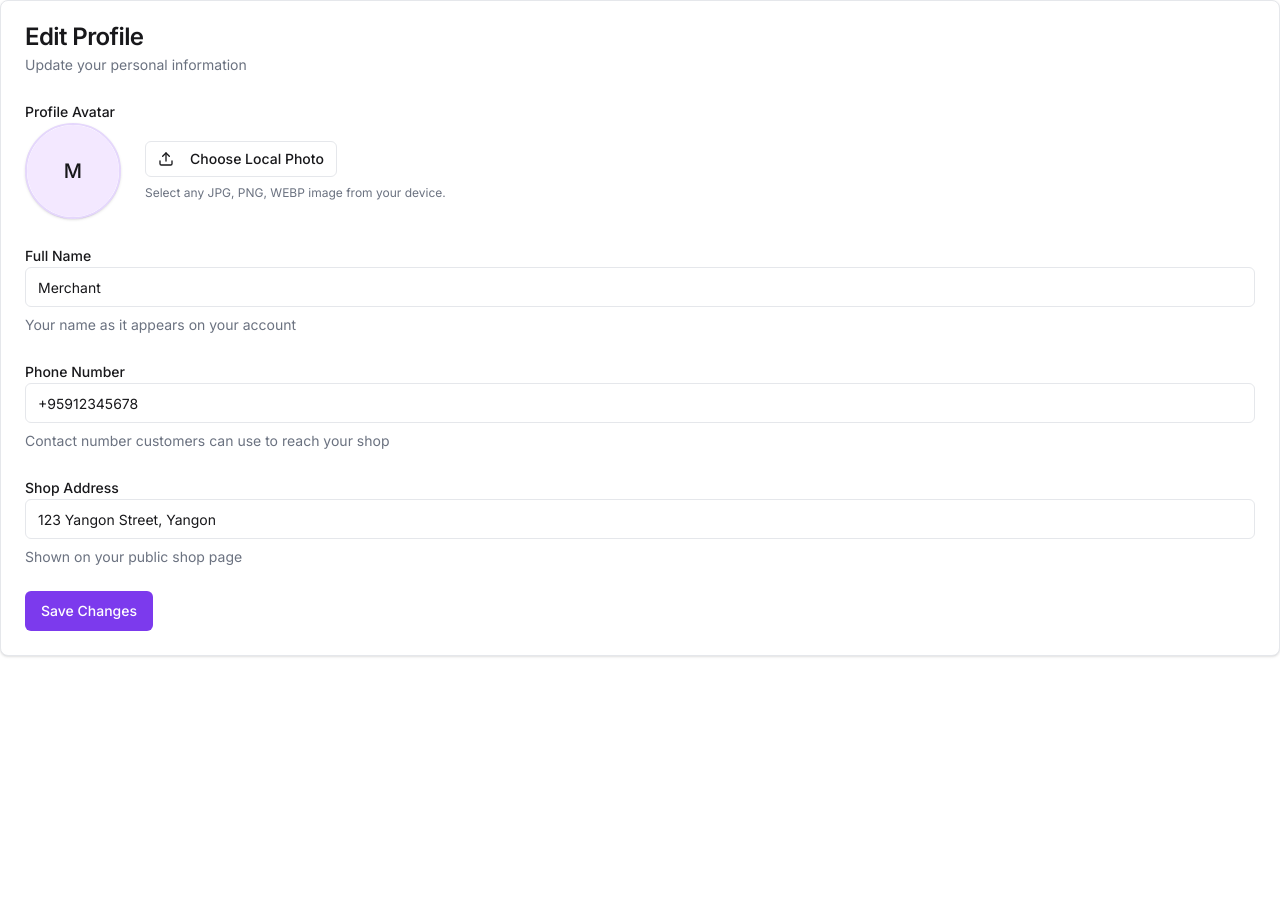
Test: ProfileForm shop contact fields › blocks saving when a merchant enters an invalid phone number
The width and height of the screenshot is (1280, 900).
Step 1. Replace the text in the field labelled "Phone Number" with "not-a-phone" → [640, 403], box [25,383,1255,423]
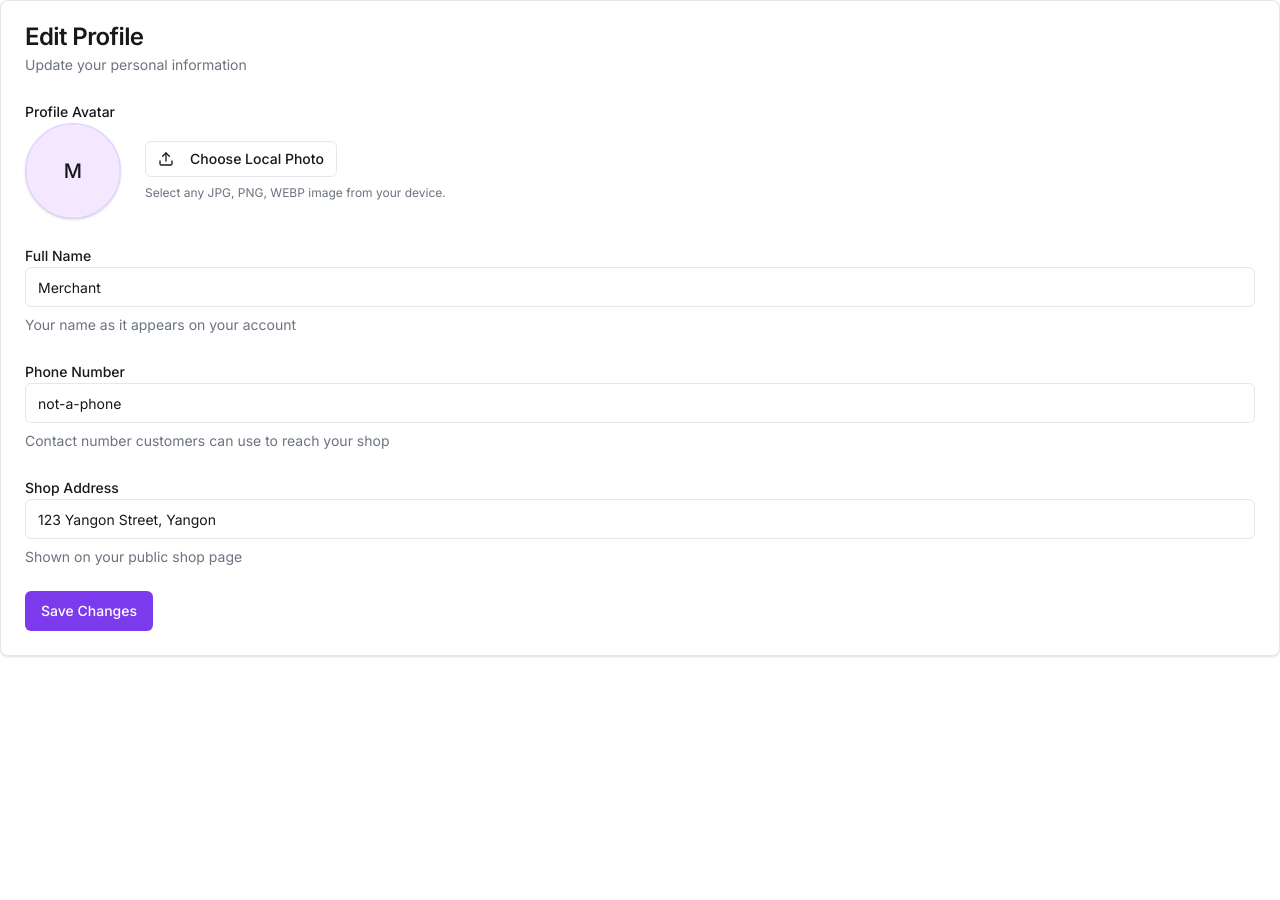
Step 2. Click the button "Save Changes" → [89, 611], box [25,591,153,631]
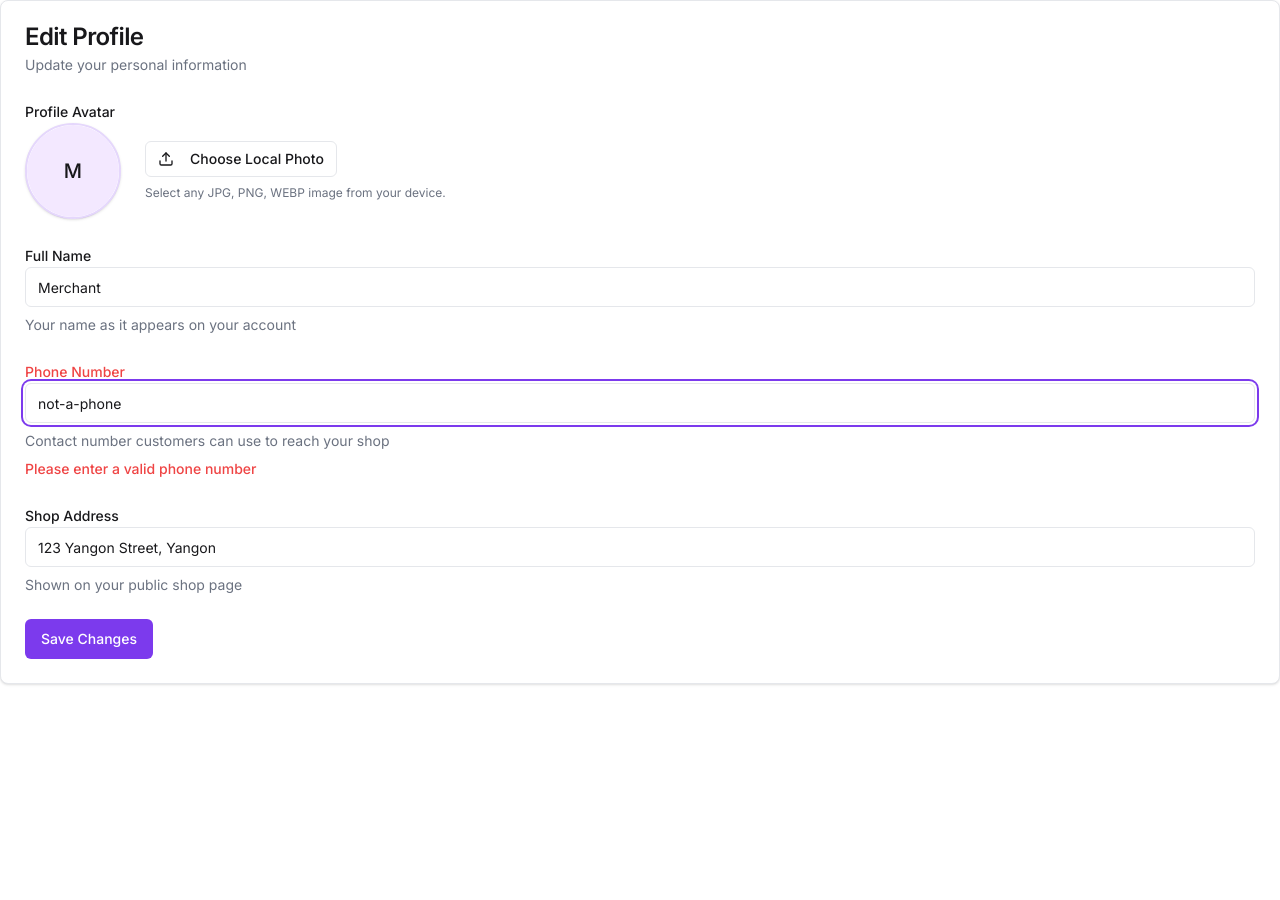
Expected: the text "Please enter a valid phone number" is shown, [25,460,256,477]
